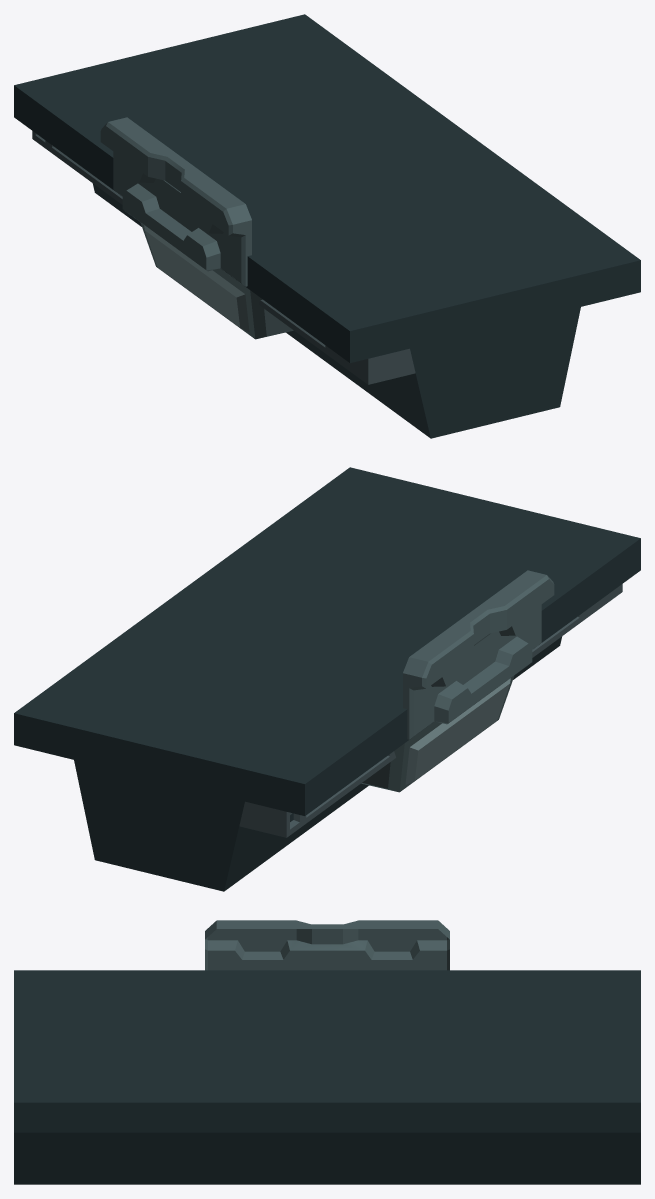
Rendered from SM_Passerelle_Body.fbx.
The picture shows the model from 3 angles, top to bottom: view 1: azimuth 30°, elevation 25°; view 2: azimuth 150°, elevation 25°; view 3: azimuth 270°, elevation 25°; orthographic projection. The views are drawn at different scales.
Parts seen in each view (by area): view 1: SM_Passerelle_Body; view 2: SM_Passerelle_Body; view 3: SM_Passerelle_Body.
Boxes of the visible parts, x1,y1,x2,y2 form: SM_Passerelle_Body: (14, 14, 640, 438); SM_Passerelle_Body: (14, 467, 640, 891); SM_Passerelle_Body: (14, 920, 640, 1184).
Bounding box in the file's own units: 318 × 171 × 600.
1 material, 1 textured.
